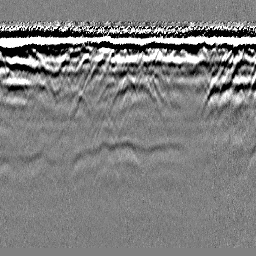cavity: (117, 73, 138, 104)
